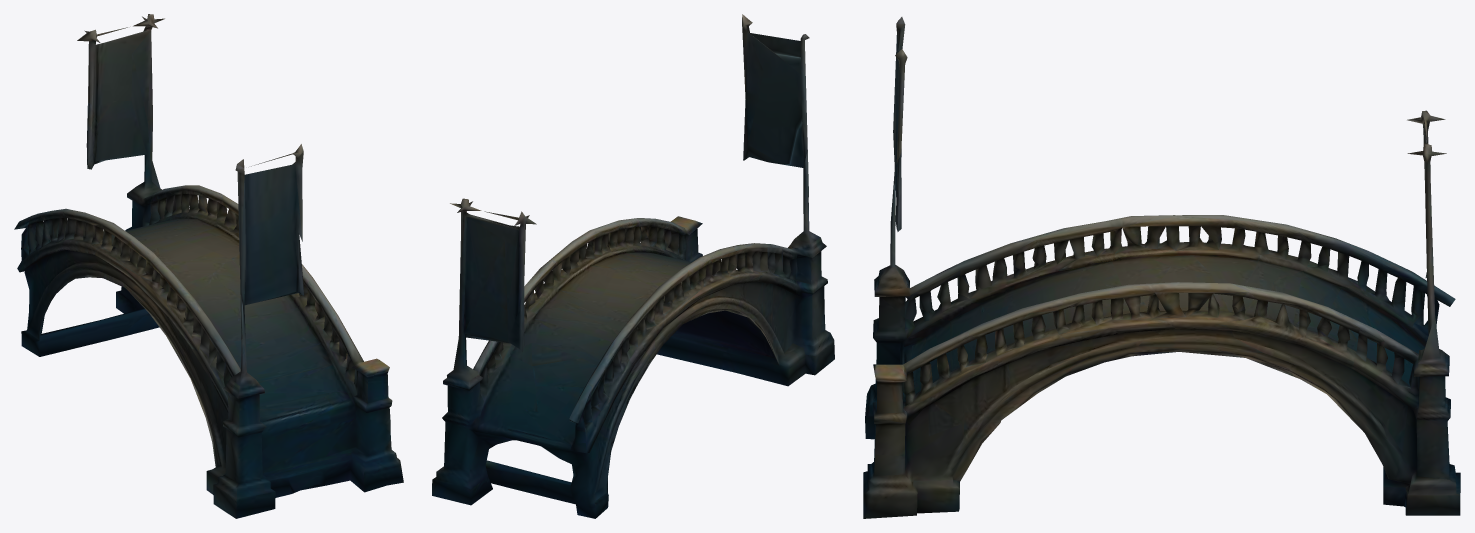
The model's file is 3d-most-kolonii.glb.
The picture shows the model from 3 angles, left to right: view 1: azimuth 30°, elevation 25°; view 2: azimuth 150°, elevation 25°; view 3: azimuth 270°, elevation 25°; orthographic projection. The views are drawn at different scales.
Parts seen in each view (by area): view 1: tripo_node_78b2d227-59c4-474b-8b0c-af5ceda9833c; view 2: tripo_node_78b2d227-59c4-474b-8b0c-af5ceda9833c; view 3: tripo_node_78b2d227-59c4-474b-8b0c-af5ceda9833c.
Part boxes in pixels (x1=…): tripo_node_78b2d227-59c4-474b-8b0c-af5ceda9833c: x1=14, y1=14, x2=403, y2=518; tripo_node_78b2d227-59c4-474b-8b0c-af5ceda9833c: x1=432, y1=14, x2=834, y2=518; tripo_node_78b2d227-59c4-474b-8b0c-af5ceda9833c: x1=863, y1=17, x2=1460, y2=518.
Bounding box in the file's own units: 0.3913 × 0.7754 × 1.
Materials: 1 (1 with a texture image).
